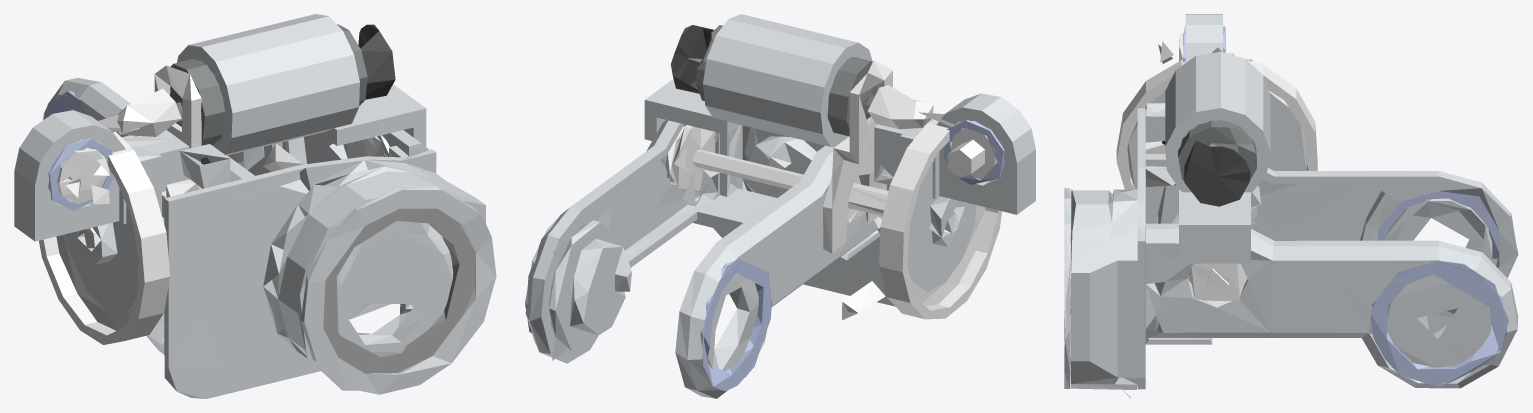
File: RLEG_LINK0_mesh.dae
3 renders of one model, left to right at view 1: azimuth 30°, elevation 25°; view 2: azimuth 150°, elevation 25°; view 3: azimuth 270°, elevation 25°, orthographic. The views are drawn at different scales.
Visible parts, largest first — view 1: RLEG_LINK0 (×19); view 2: RLEG_LINK0 (×19); view 3: RLEG_LINK0 (×17).
Part boxes in pixels (left/top/right/bottom): RLEG_LINK0 (×19): left=14, top=14, right=496, bottom=398; RLEG_LINK0 (×19): left=525, top=14, right=1035, bottom=398; RLEG_LINK0 (×17): left=1064, top=14, right=1518, bottom=389.
Size of the model in its own units: 0.1548 by 0.1176 by 0.1705.
